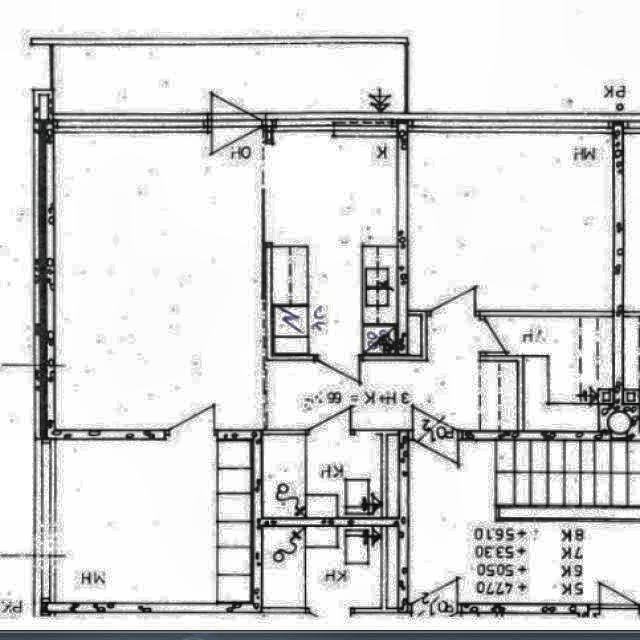room: (408, 133, 612, 310), (56, 441, 251, 602), (486, 317, 613, 431), (264, 435, 380, 517), (263, 527, 380, 607)
